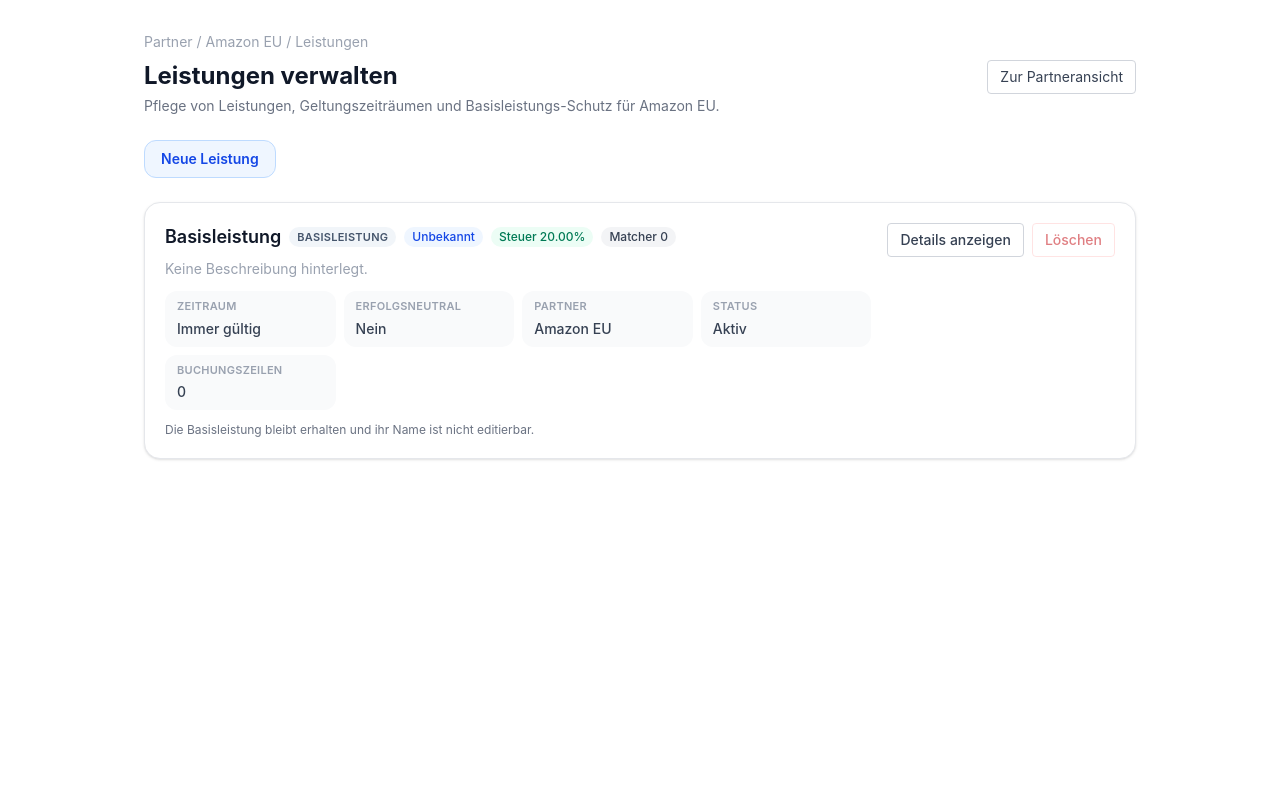
Test: ServiceManagementPage › keeps base service protected in the ui
Expected: the heading "Basisleistung" is shown, [165,223,281,251]
Click the button with aria-label "Basisleistung Details anzeigen" at (956,240), box [888,223,1024,257]
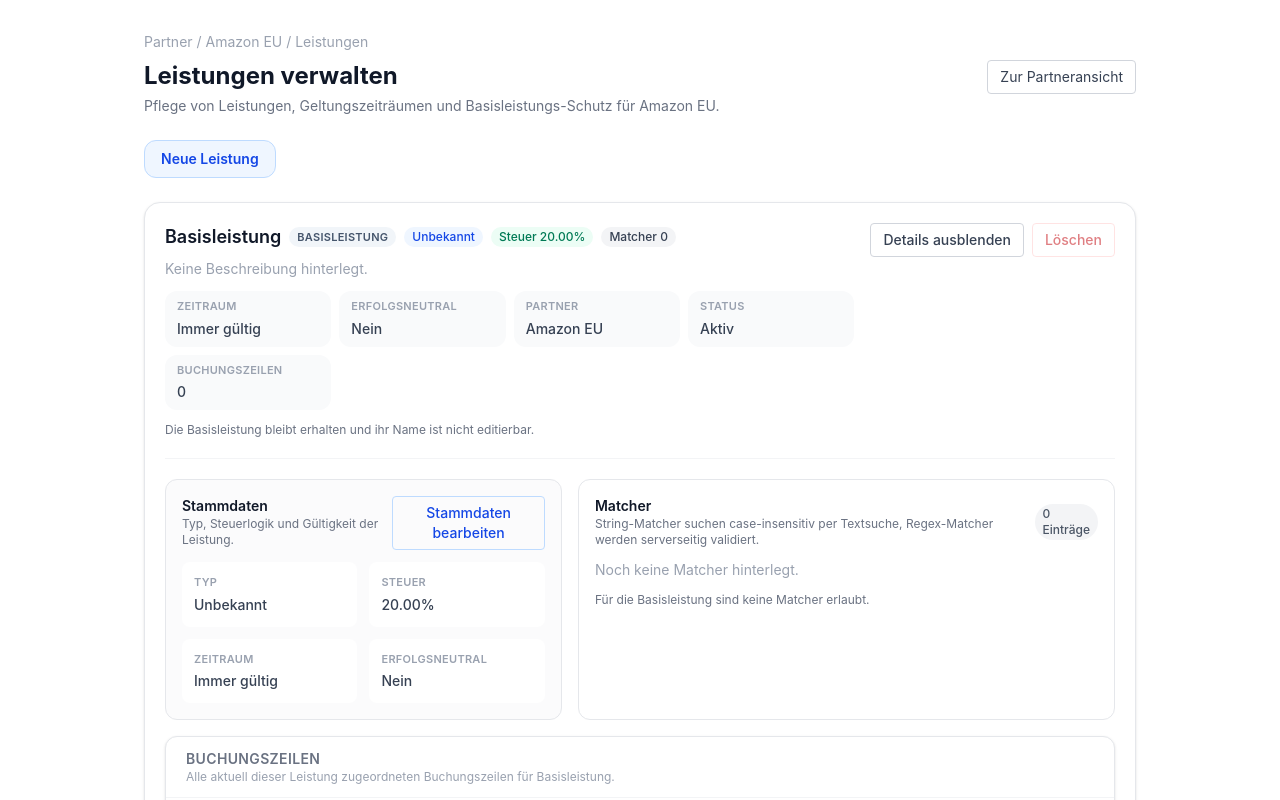
Expected: the text "Die Basisleistung bleibt erhalten" is shown, [165,422,534,437]
Expected: the text "Für die Basisleistung sind keine Matcher erlaubt." is shown, [595,592,870,607]
Click the button "Stammdaten bearbeiten" at (469,523), box [392,496,545,550]
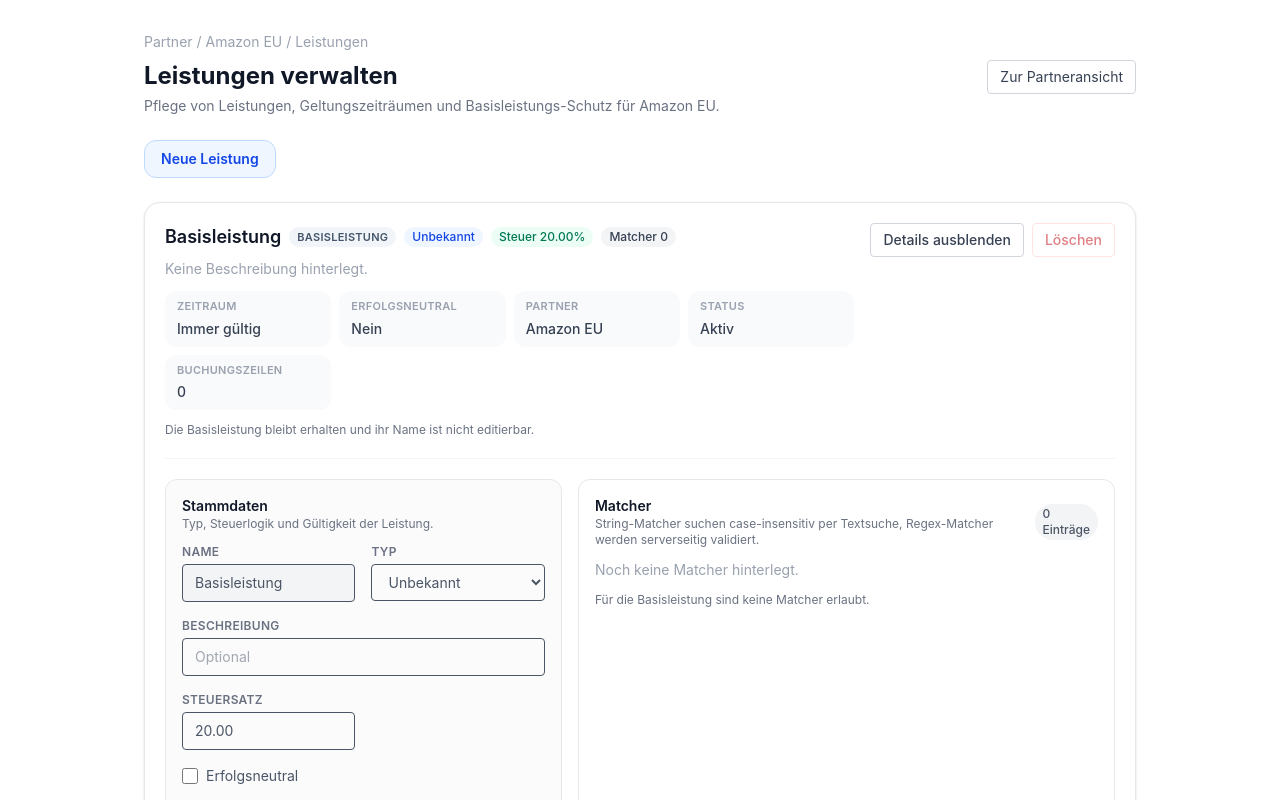
Expected: the field showing "Basisleistung" is disabled, [182,564,356,602]
